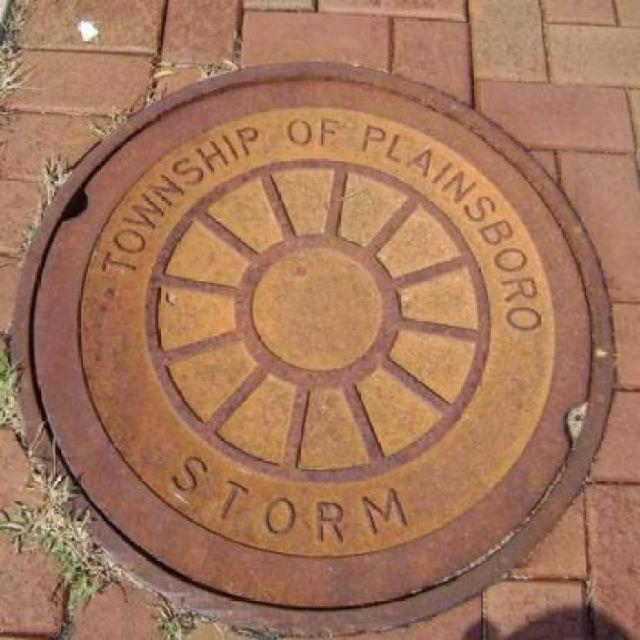Manhole: (8, 52, 630, 638)
